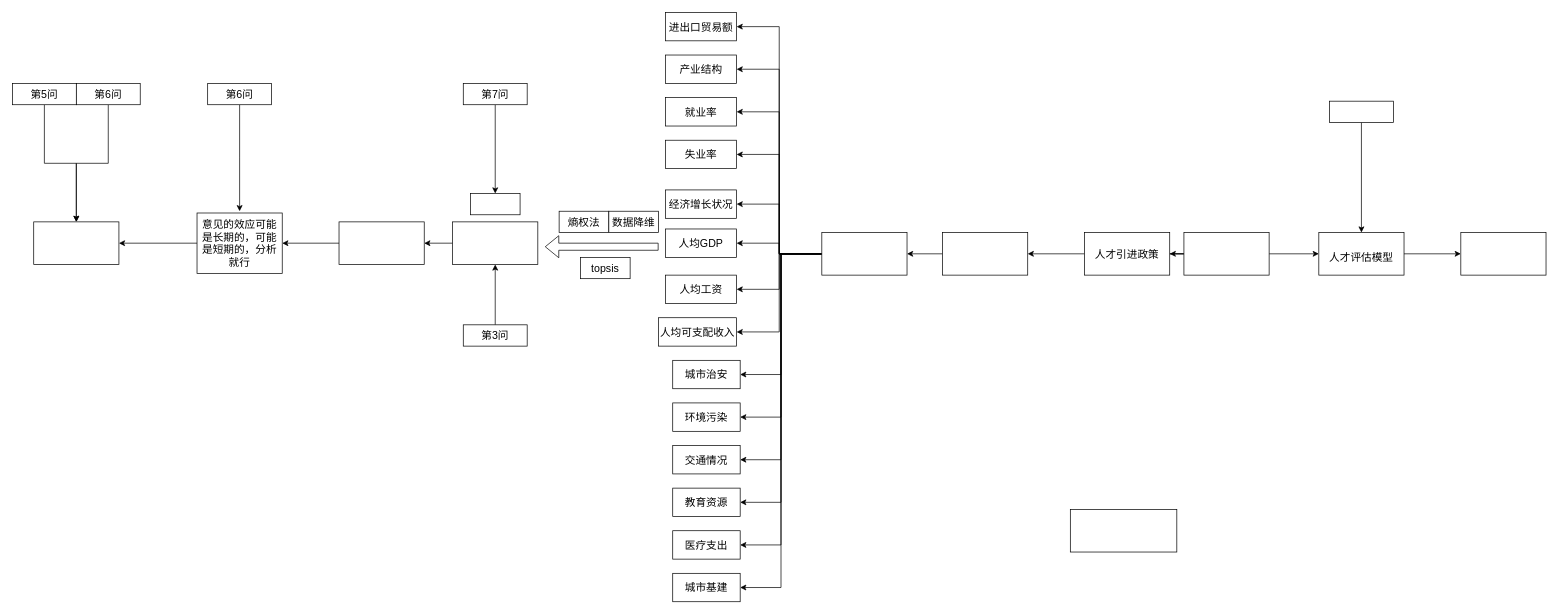
Some shapes in this 1558 by 614 pixel diagram are drawn without their labels. The shapes that lost their labels are listed below. From the top down, each one's centre as x and y in pixels, then its label:
the point at 1361,111: 第1问
the point at 495,204: AHP
the point at 76,242: 灰色预测进行评价模型
the point at 381,242: 提出意见
the point at 495,242: 比较西安和北京等城市
the point at 864,253: 寻求参数，比较各个城市
the point at 985,253: 人才吸引模型评价
the point at 1226,253: B题
the point at 1503,253: 找出参数，进行各个城市的评估
the point at 1123,530: 第2，第4问不太会
